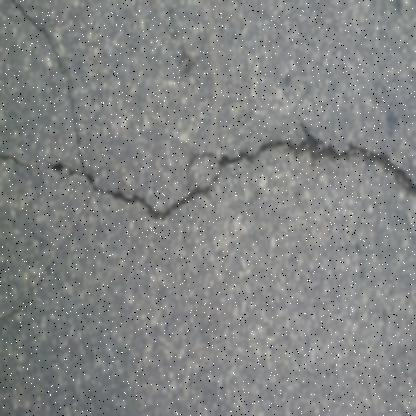Cracks: (0, 116, 415, 227), (0, 0, 91, 185), (0, 178, 98, 334)
